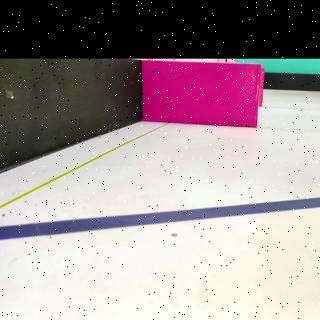xparking: (148, 64, 255, 127)
